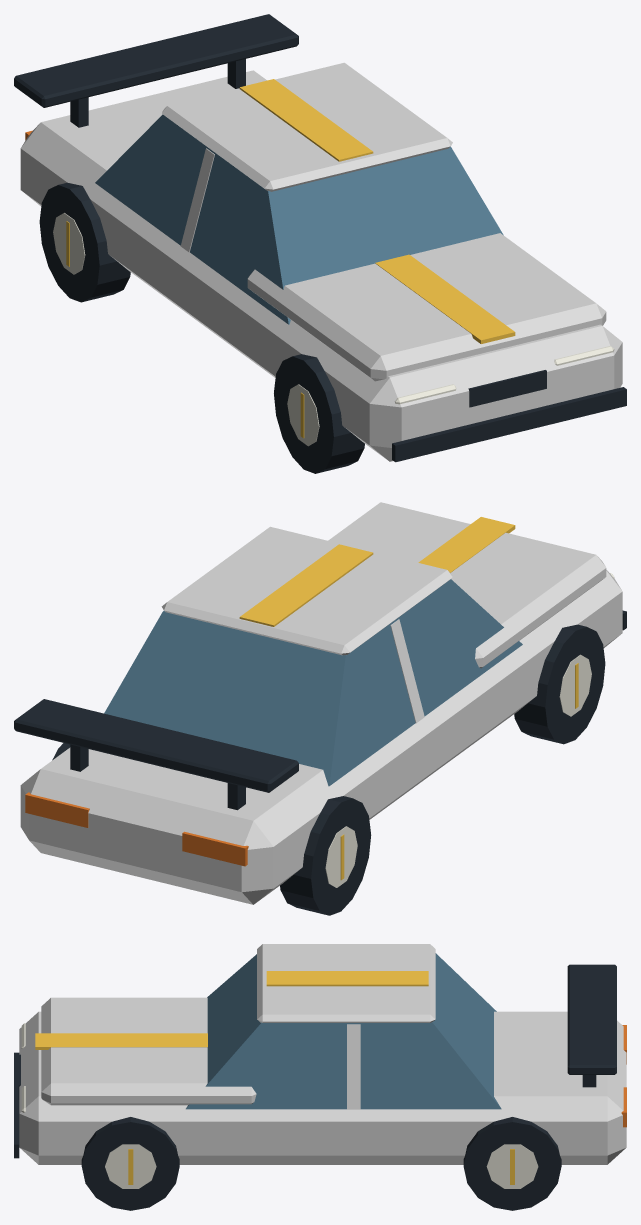
Rendered from race-car.glb.
The picture shows the model from 3 angles, top to bottom: view 1: azimuth 30°, elevation 25°; view 2: azimuth 150°, elevation 25°; view 3: azimuth 270°, elevation 25°; orthographic projection. The views are drawn at different scales.
Visible parts, largest first — view 1: joint_body, joint_wheelRL, joint_wheelFL; view 2: joint_body, joint_wheelFL, joint_wheelRL; view 3: joint_body, joint_wheelRR, joint_wheelFR.
Part boxes in pixels (box(x1,y1,x2,y2)): joint_body: box(14, 14, 626, 462); joint_wheelRL: box(39, 182, 130, 302); joint_wheelFL: box(274, 354, 364, 473); joint_body: box(14, 502, 626, 904); joint_wheelFL: box(514, 624, 605, 744); joint_wheelRL: box(280, 796, 371, 915); joint_body: box(14, 944, 626, 1164); joint_wheelRR: box(463, 1117, 561, 1210); joint_wheelFR: box(81, 1117, 179, 1210).
Bounding box in the file's own units: 1.9 × 1.45 × 4.5.
